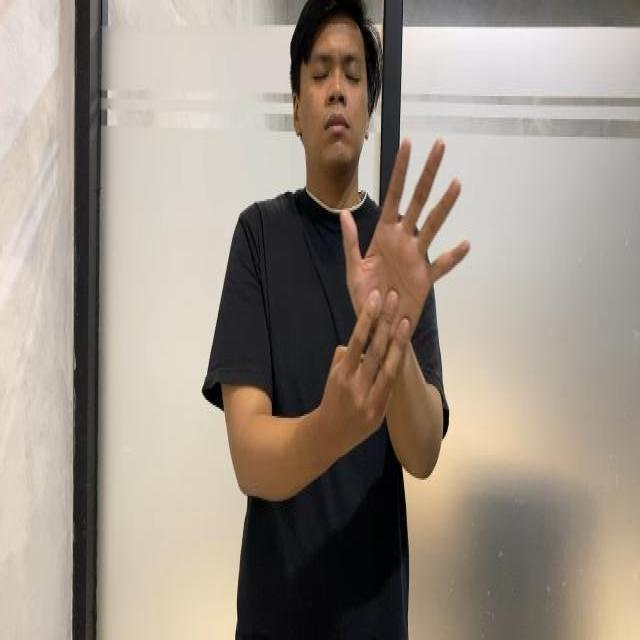M: (329, 134, 480, 372)
